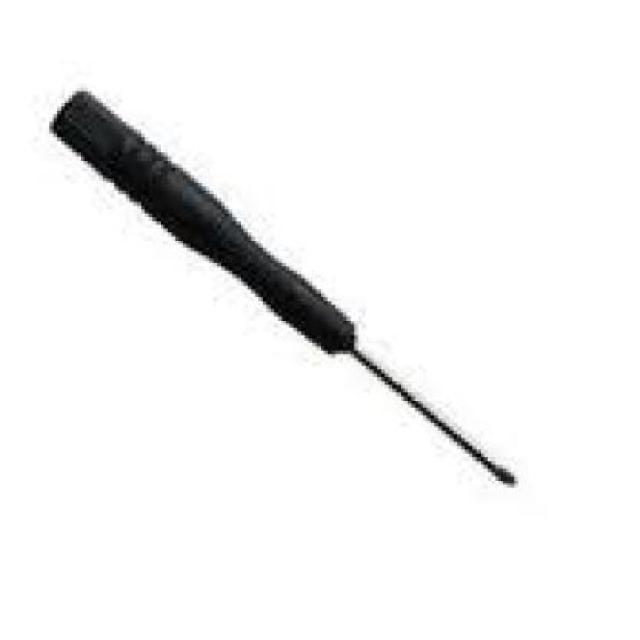screwdriver: (53, 86, 518, 492)
